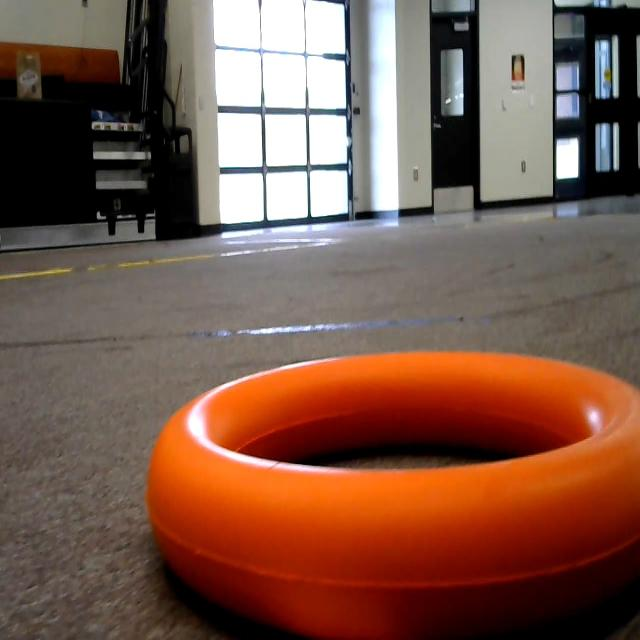note: (133, 328, 640, 639)
